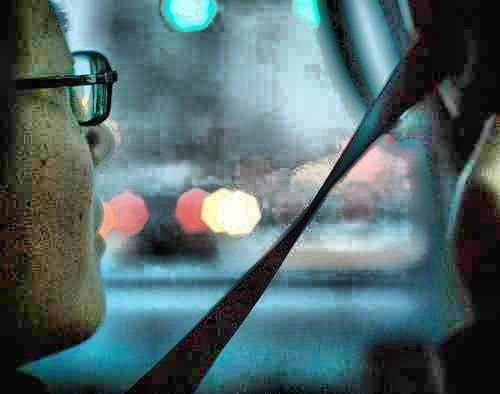seatbelt: (174, 69, 415, 350)
